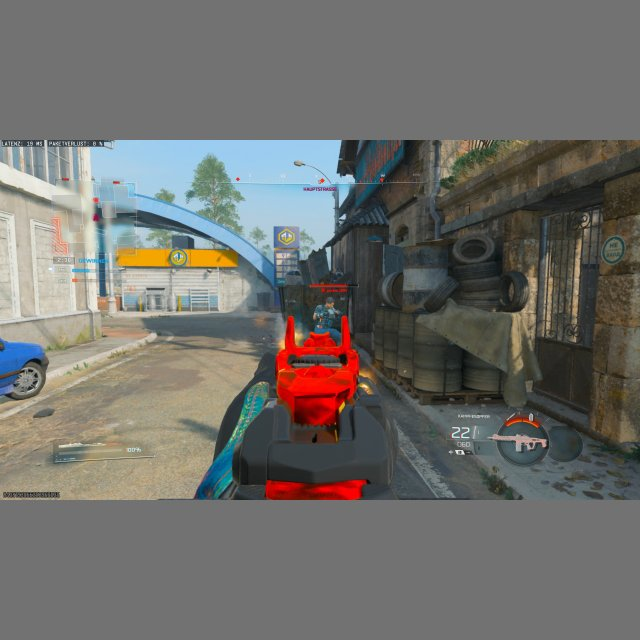head: (326, 297, 334, 308)
player: (313, 298, 341, 346)
